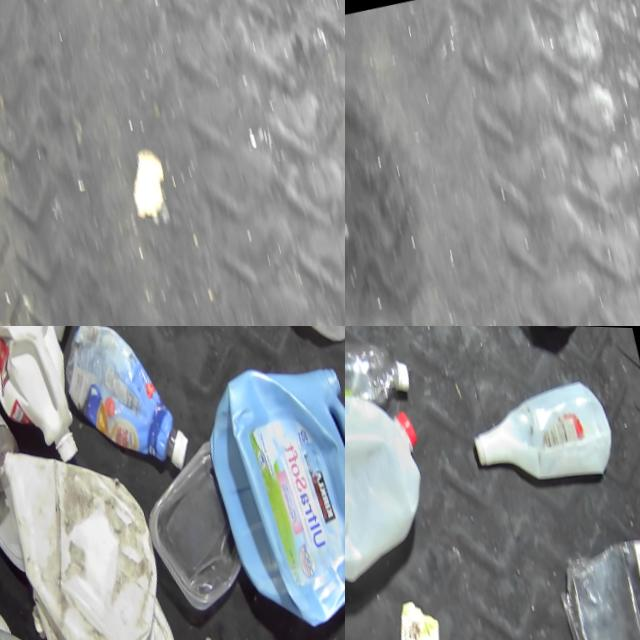milk_jug: (0, 421, 188, 640), (345, 371, 449, 593), (28, 551, 197, 640), (0, 326, 93, 476)
non_white_jug: (190, 340, 345, 640)
plastic_bottle: (345, 326, 419, 426), (0, 326, 32, 504), (22, 592, 111, 640)
